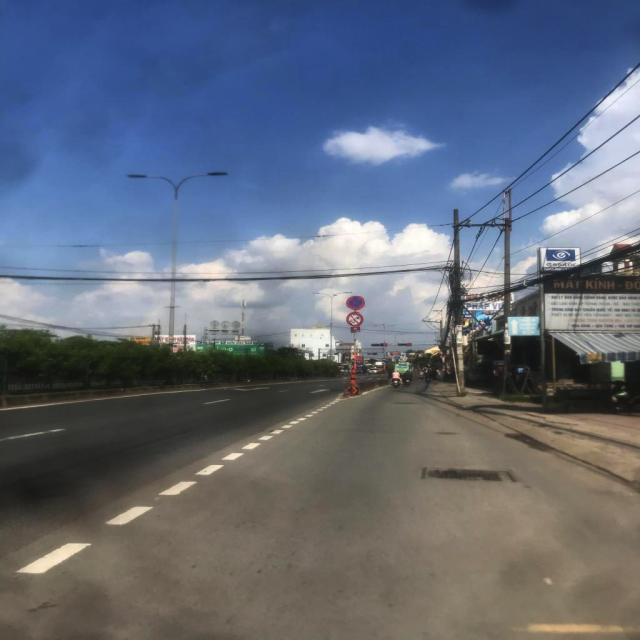cam_dung_xe_va_do_xe: (346, 296, 364, 310)
cam_xe_2_banh_va_xe_3_banh_co_dong_co: (346, 312, 364, 326)
cam_xe_di_nguoc_chieu: (382, 358, 387, 361)
huong_phai_di_vuot_chuong_ngai_vat_phai: (382, 362, 386, 365)
